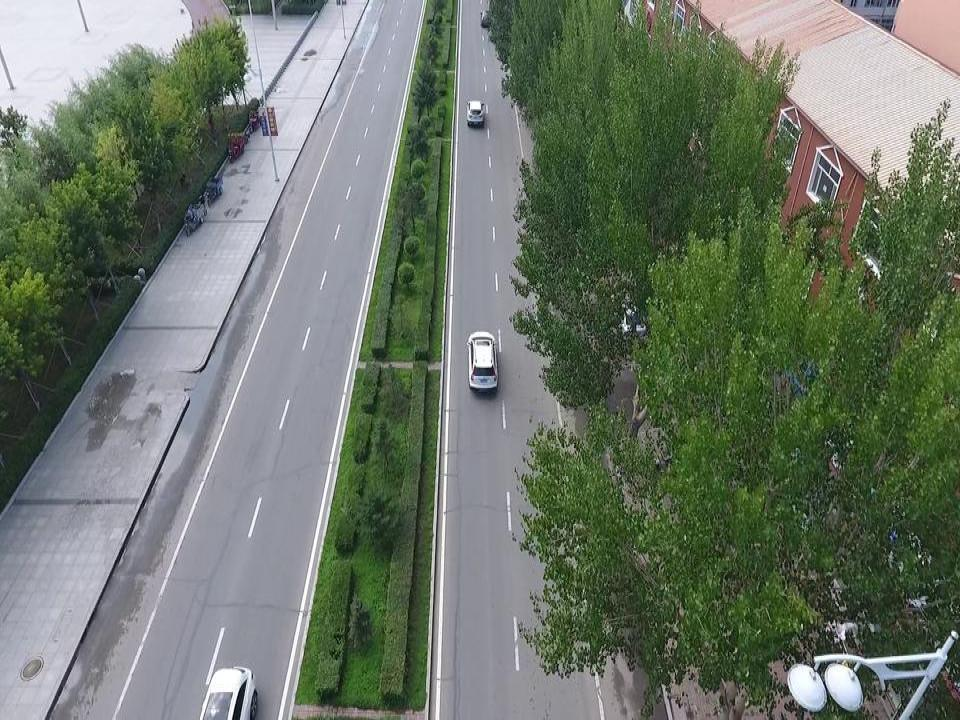car: (201, 666, 257, 720), (466, 332, 498, 395), (616, 290, 647, 338), (466, 99, 484, 125), (480, 7, 493, 28)
